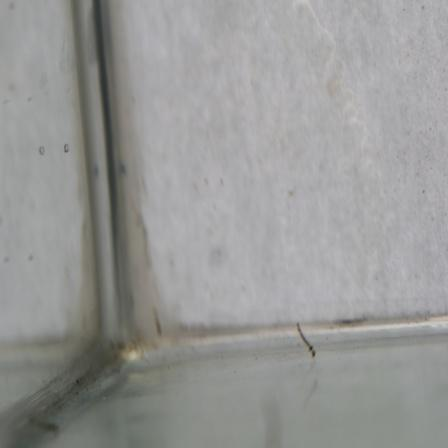Jentik-Nyamuk: (292, 317, 319, 361)
